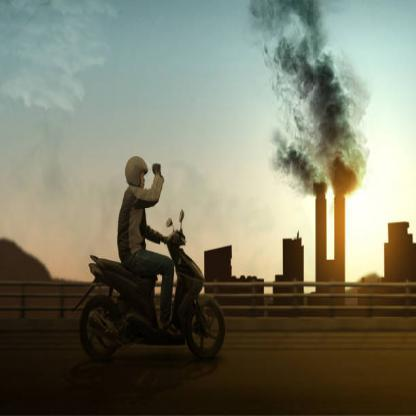Motorcycle: (70, 222, 228, 367)
